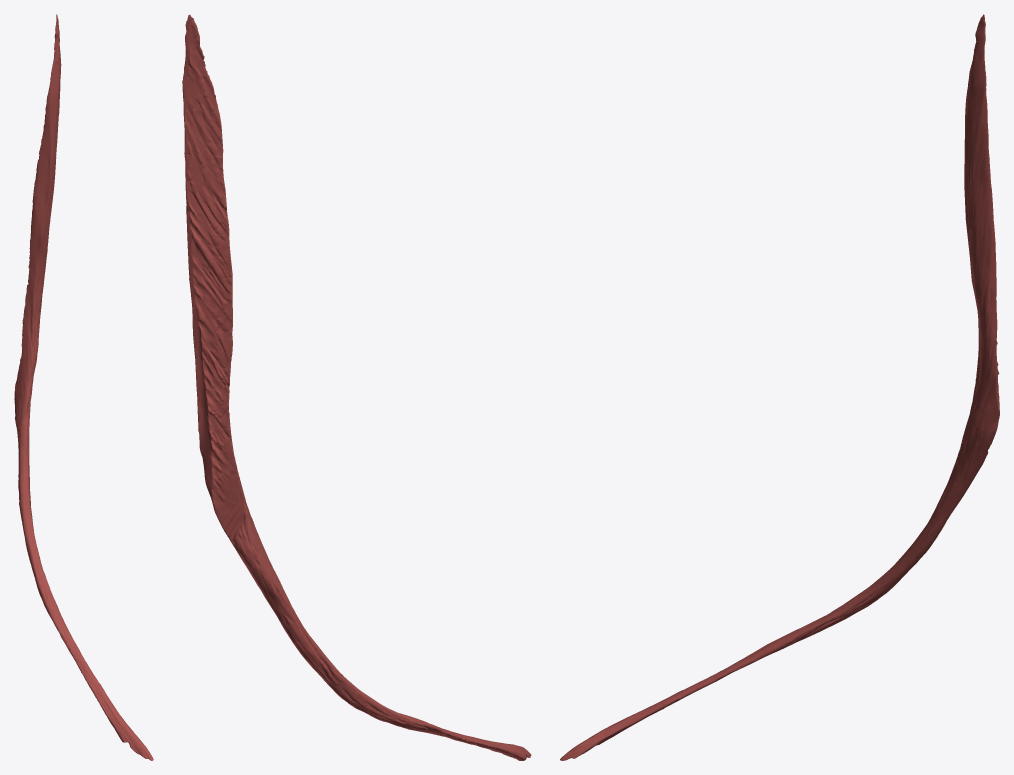
File: FMA22547.glb
3 renders of one model, left to right at view 1: azimuth 30°, elevation 25°; view 2: azimuth 150°, elevation 25°; view 3: azimuth 270°, elevation 25°, orthographic. The views are drawn at different scales.
Parts seen in each view (by area): view 1: FMA22547; view 2: FMA22547; view 3: FMA22547.
Part boxes in pixels (x1,y1,x2,y2): FMA22547: (14, 14, 153, 760); FMA22547: (182, 14, 531, 760); FMA22547: (560, 14, 999, 760).
Bounding box in the file's own units: 0.0414 × 0.2713 × 0.1371.
